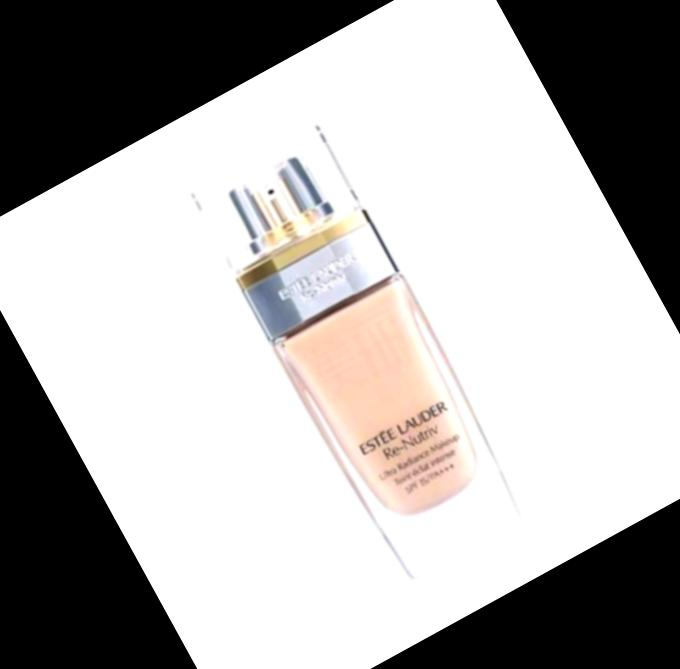cosmetic: (189, 124, 531, 586)
